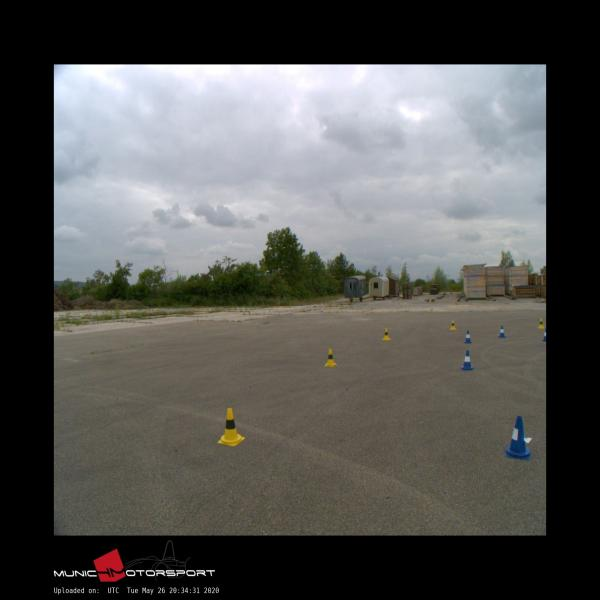blue_cone: (505, 415, 530, 459), (461, 350, 473, 369), (464, 330, 471, 344), (498, 325, 505, 337), (542, 328, 546, 341)
yellow_cone: (217, 408, 245, 445), (324, 349, 337, 366), (382, 327, 390, 340), (449, 320, 456, 330), (538, 318, 544, 328)
